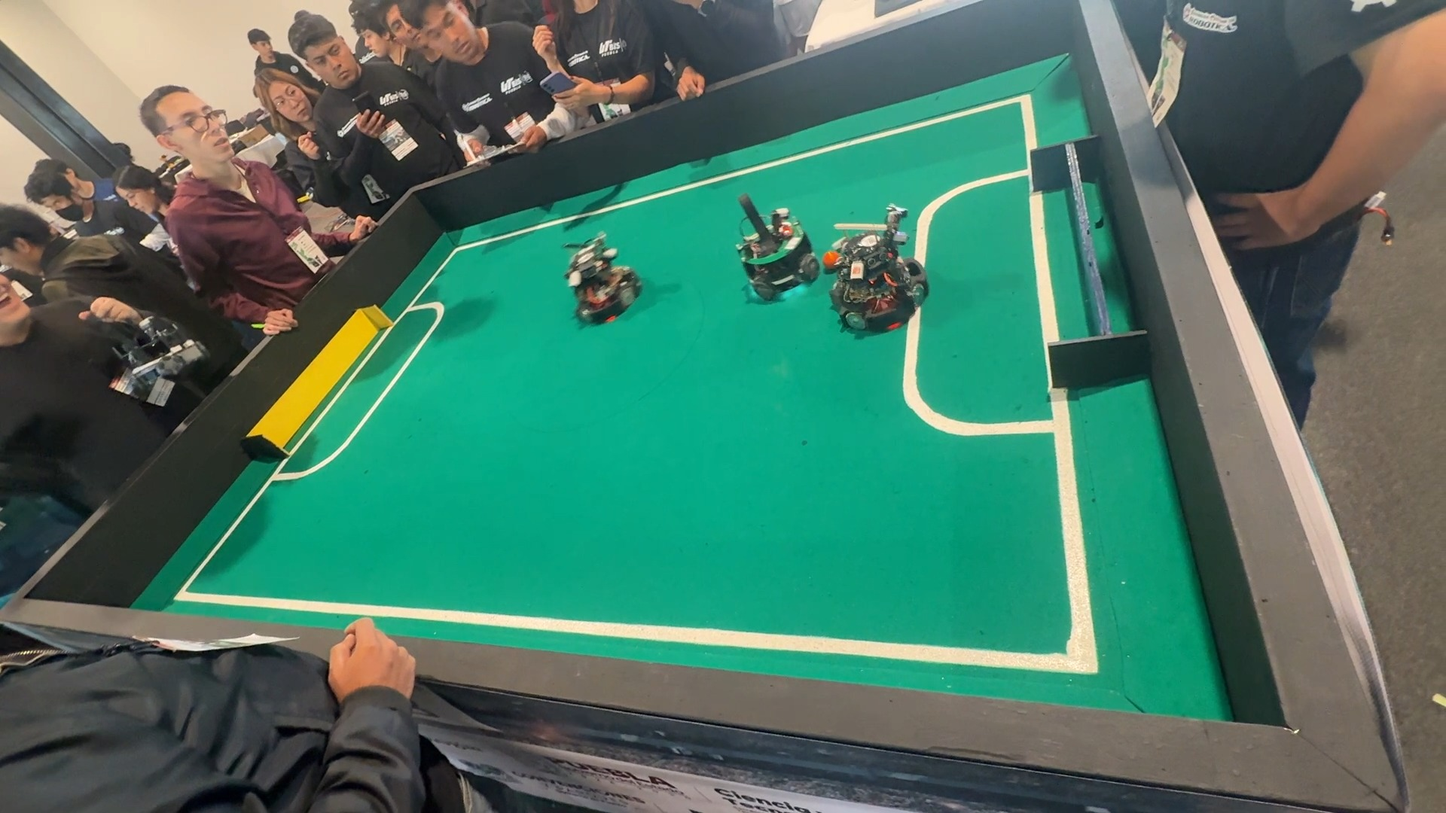Robot: (721, 196, 842, 310), (829, 207, 934, 338), (557, 232, 646, 324)
